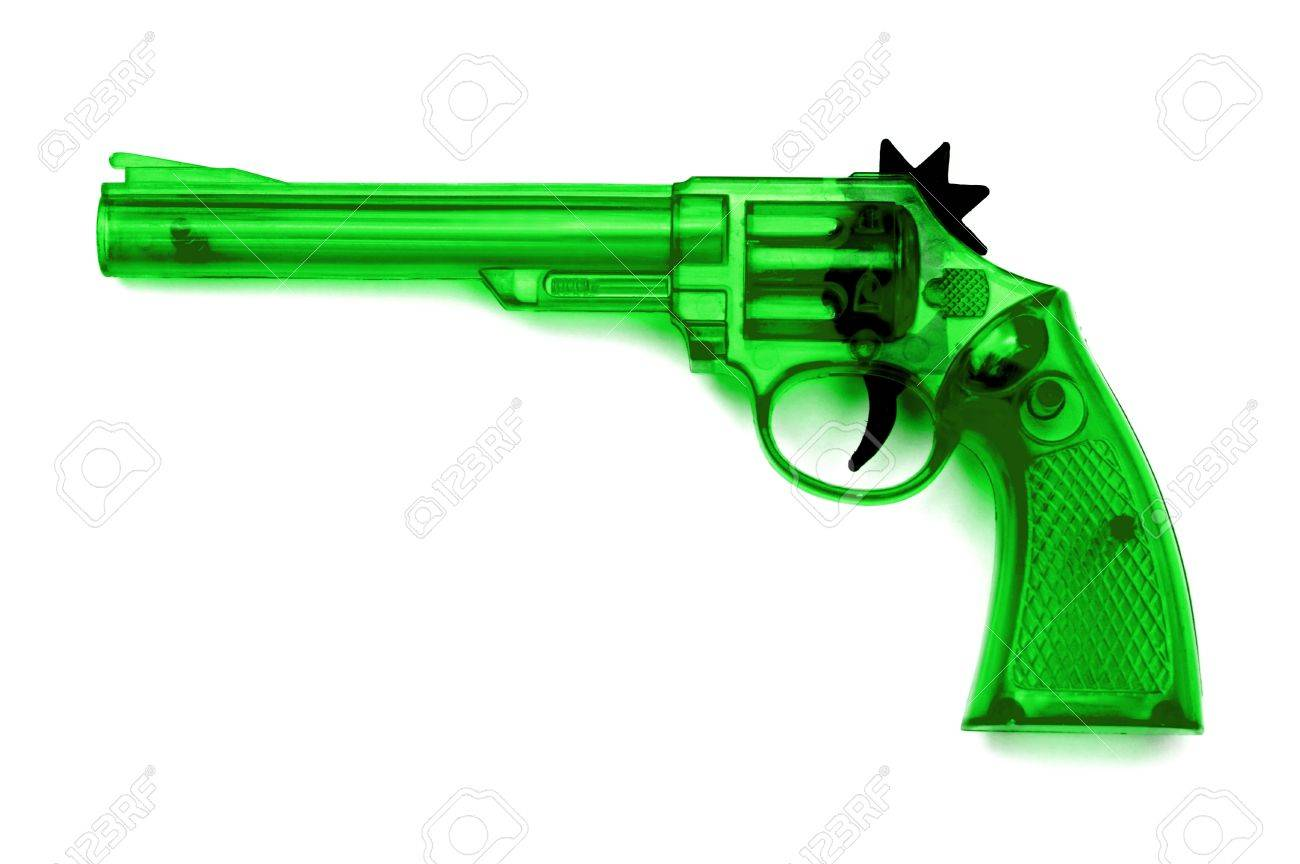Arma Falsa: (94, 123, 1214, 757)
